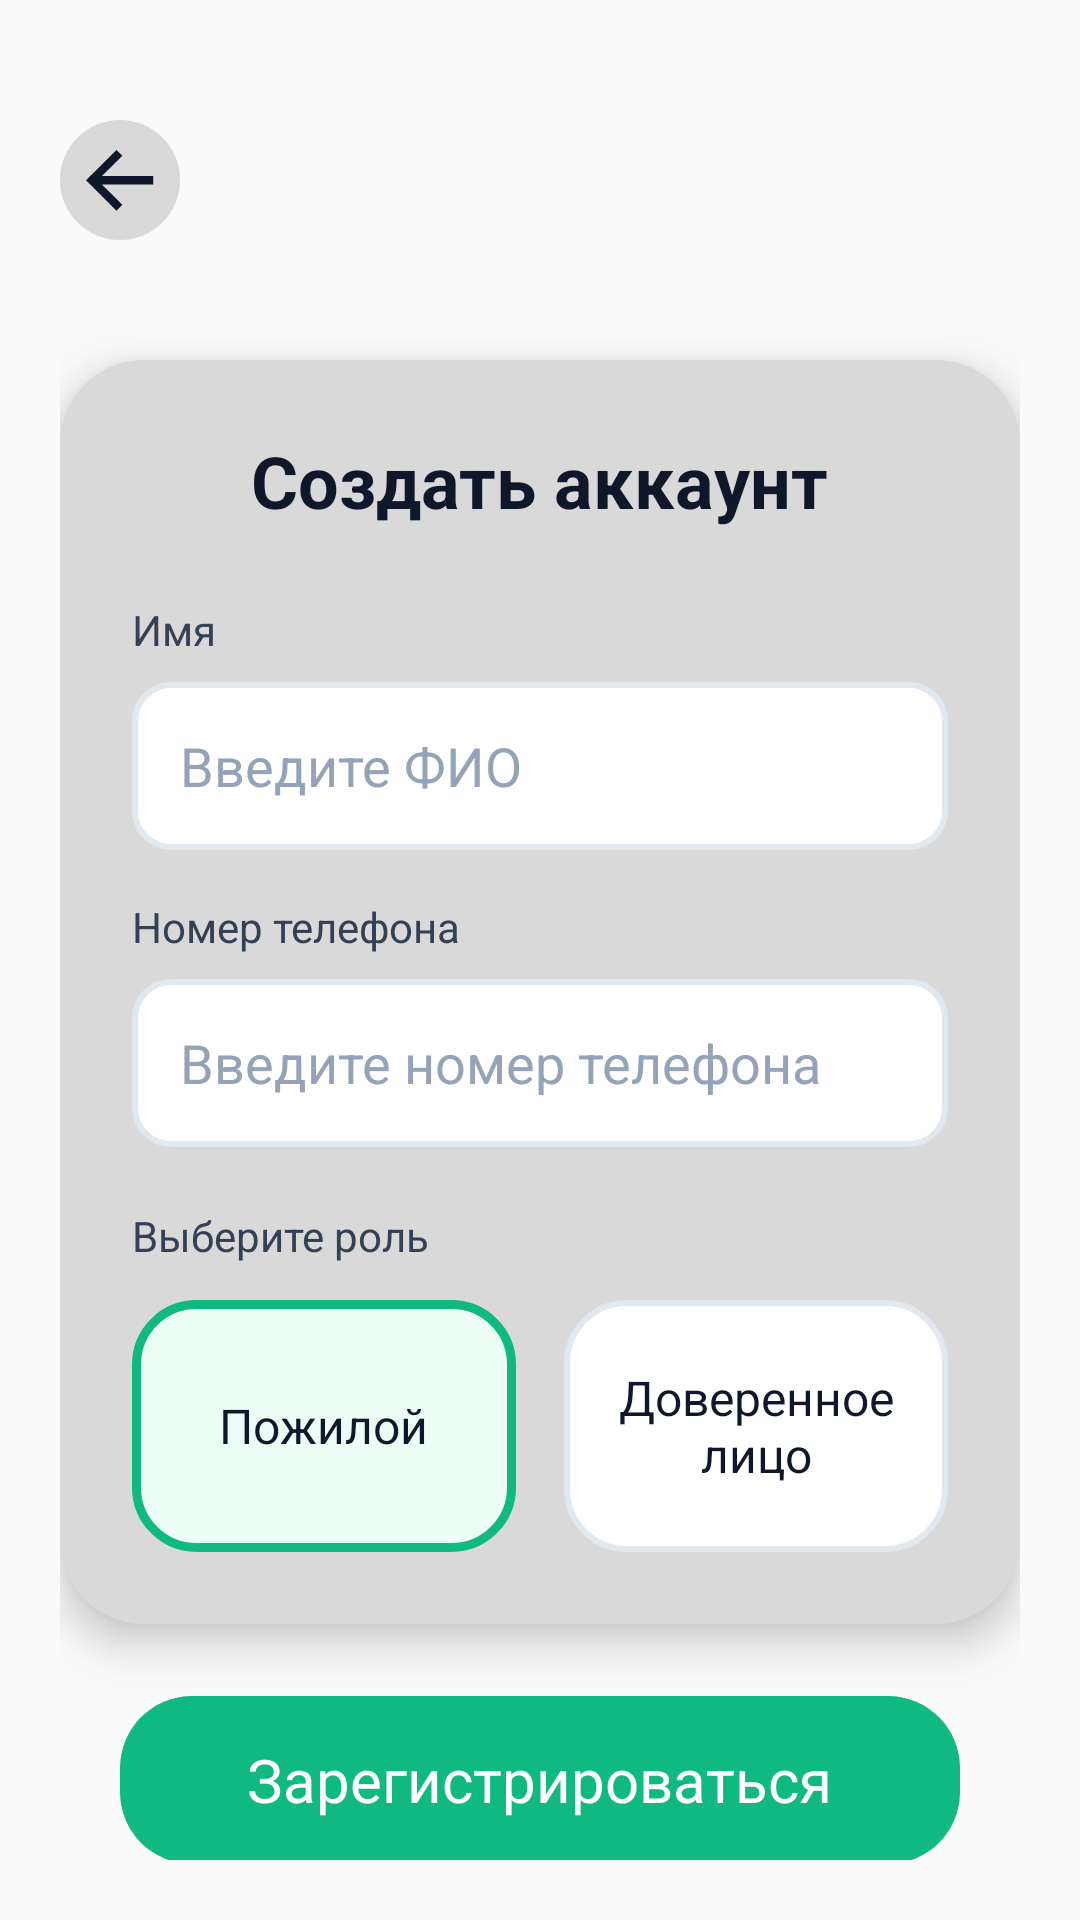

Point at icon controls on the screen. Image size 1080px x 1920px, points as point (x, y).
arrow back: point (120, 180)
